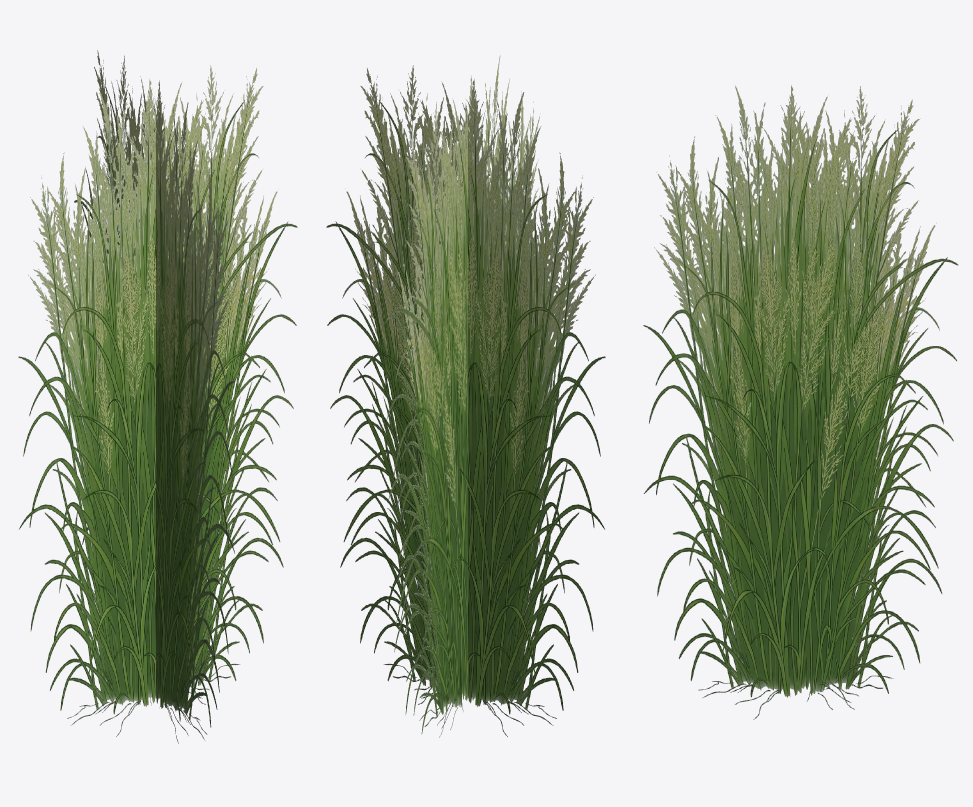
Rendered from Pasto_alto.fbx.
3 views of the same model, side by side, from view 1: azimuth 30°, elevation 25°; view 2: azimuth 150°, elevation 25°; view 3: azimuth 270°, elevation 25° (orthographic). The views are drawn at different scales.
Parts seen in each view (by area): view 1: Pasto_Alto01, Pasto_alto02; view 2: Pasto_Alto01, Pasto_alto02; view 3: Pasto_alto02.
Part boxes in pixels (box(x1,y1,x2,y2)): Pasto_Alto01: box(18, 65, 297, 736); Pasto_alto02: box(74, 50, 235, 743); Pasto_Alto01: box(326, 65, 605, 736); Pasto_alto02: box(386, 55, 547, 737); Pasto_alto02: box(643, 85, 958, 719).
Bounding box in the file's own units: 432 × 960 × 432.
Materials: 1 (1 with a texture image).
